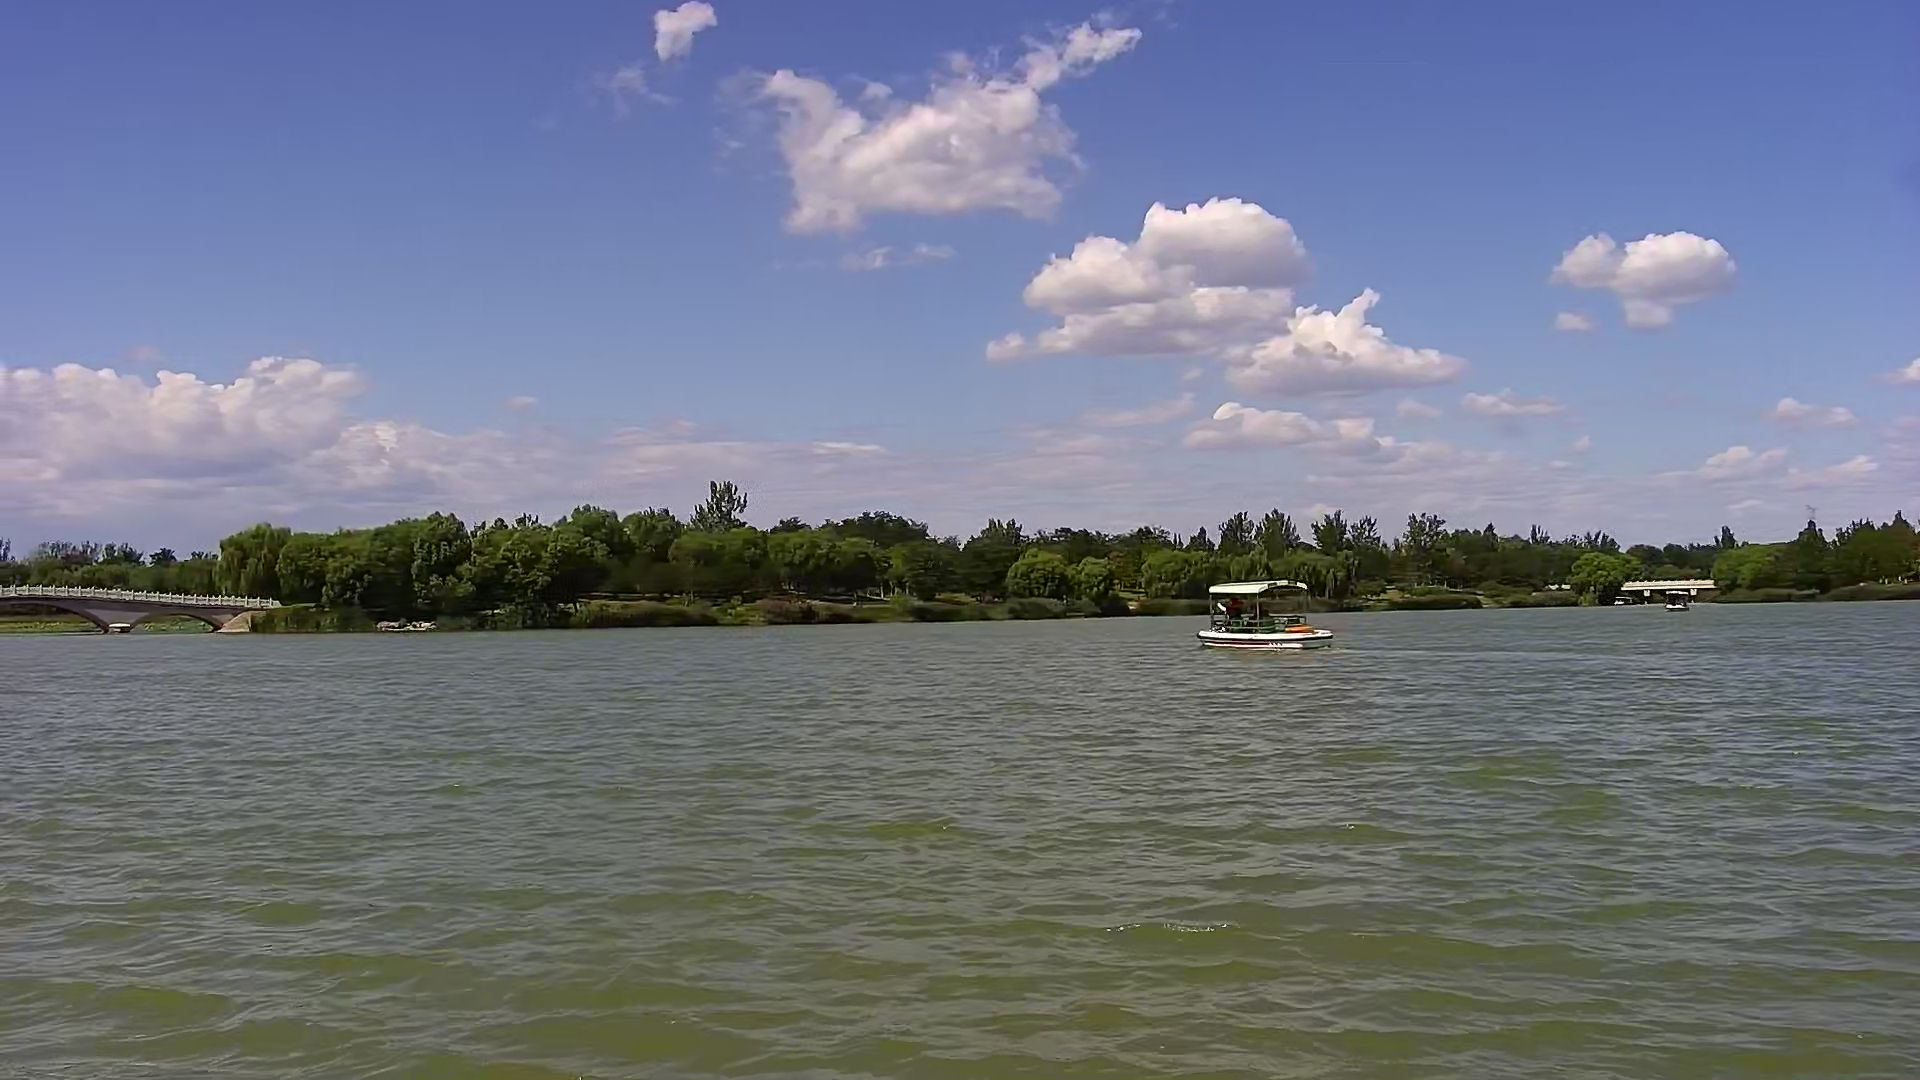boat: (1193, 575, 1333, 659), (1665, 591, 1696, 617)
bridge: (1, 570, 281, 645)
